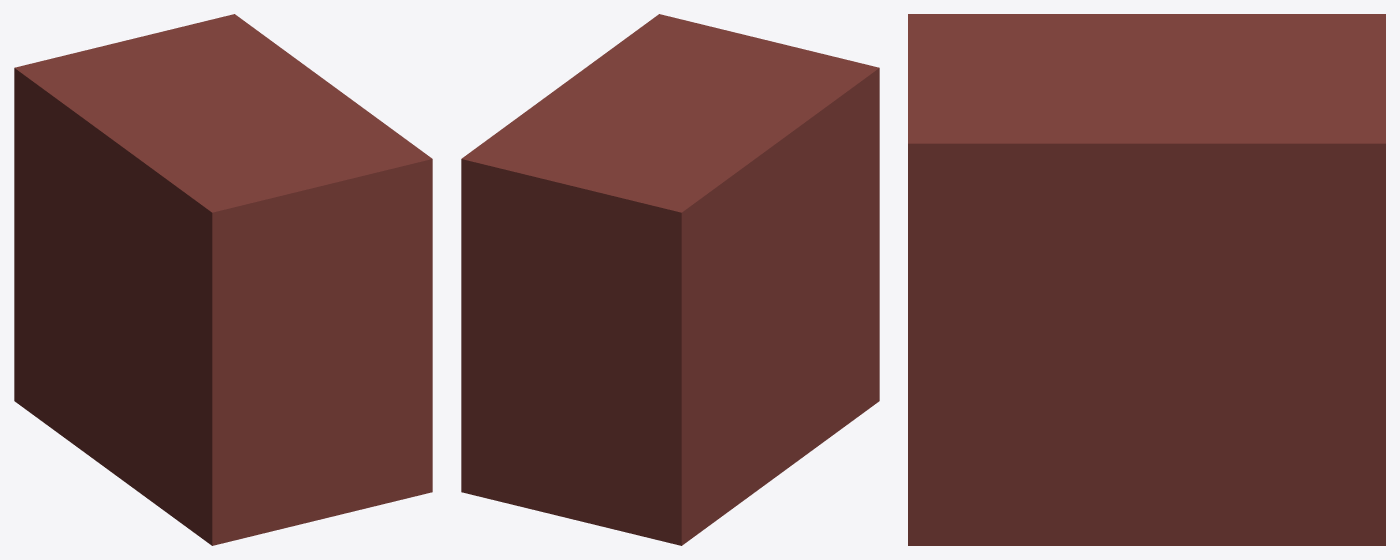
The model's file is pipeline_probe.glb.
3 renders of one model, left to right at view 1: azimuth 30°, elevation 25°; view 2: azimuth 150°, elevation 25°; view 3: azimuth 270°, elevation 25°, orthographic. The views are drawn at different scales.
Visible parts, largest first — view 1: M_PipelineProbeBook; view 2: M_PipelineProbeBook; view 3: M_PipelineProbeBook.
Part boxes in pixels (x1=…): M_PipelineProbeBook: x1=14, y1=14, x2=432, y2=545; M_PipelineProbeBook: x1=461, y1=14, x2=879, y2=545; M_PipelineProbeBook: x1=908, y1=14, x2=1385, y2=545.
Size of what is drawn, in the model's own units: 0.18 by 0.26 by 0.28.
